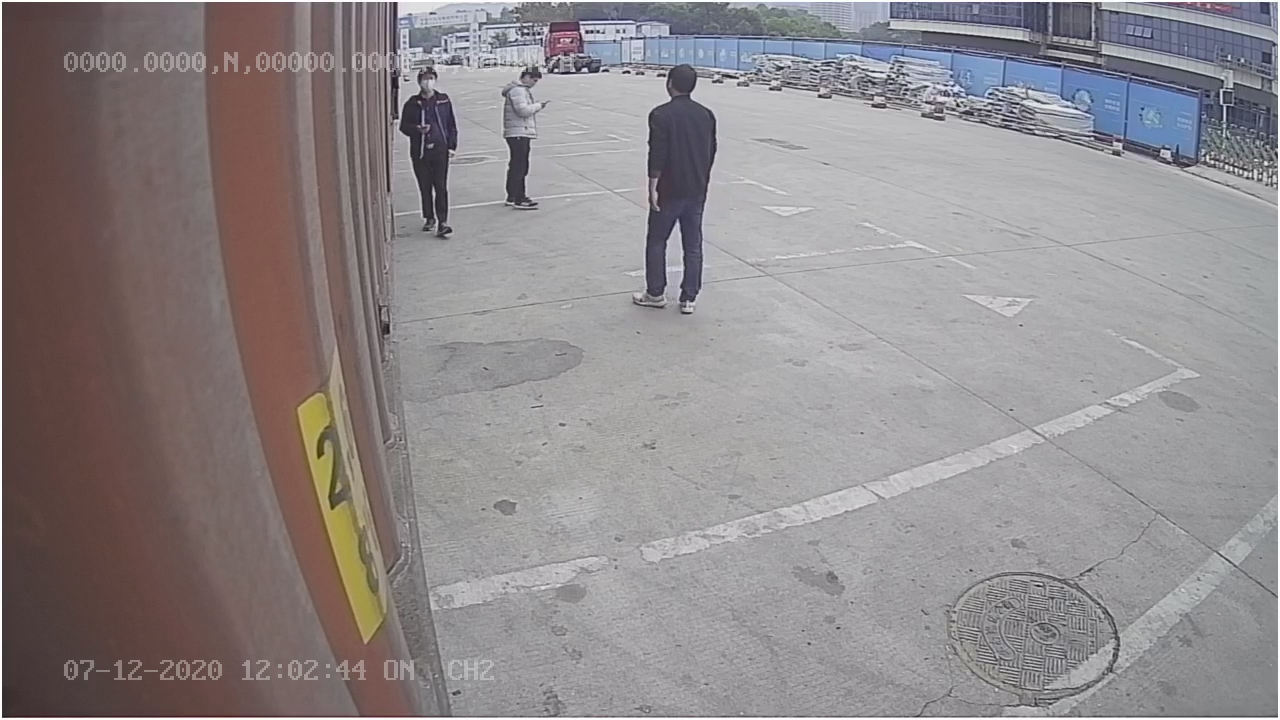person: (630, 56, 719, 320)
